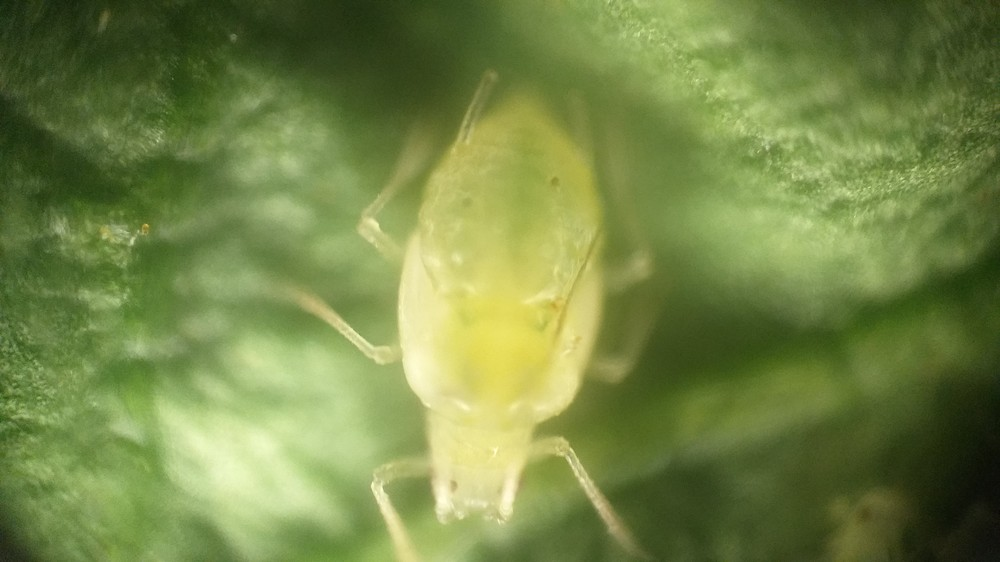Pulgon: (280, 76, 700, 556)
